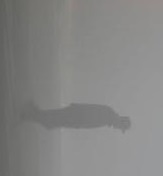person: (19, 100, 133, 134)
